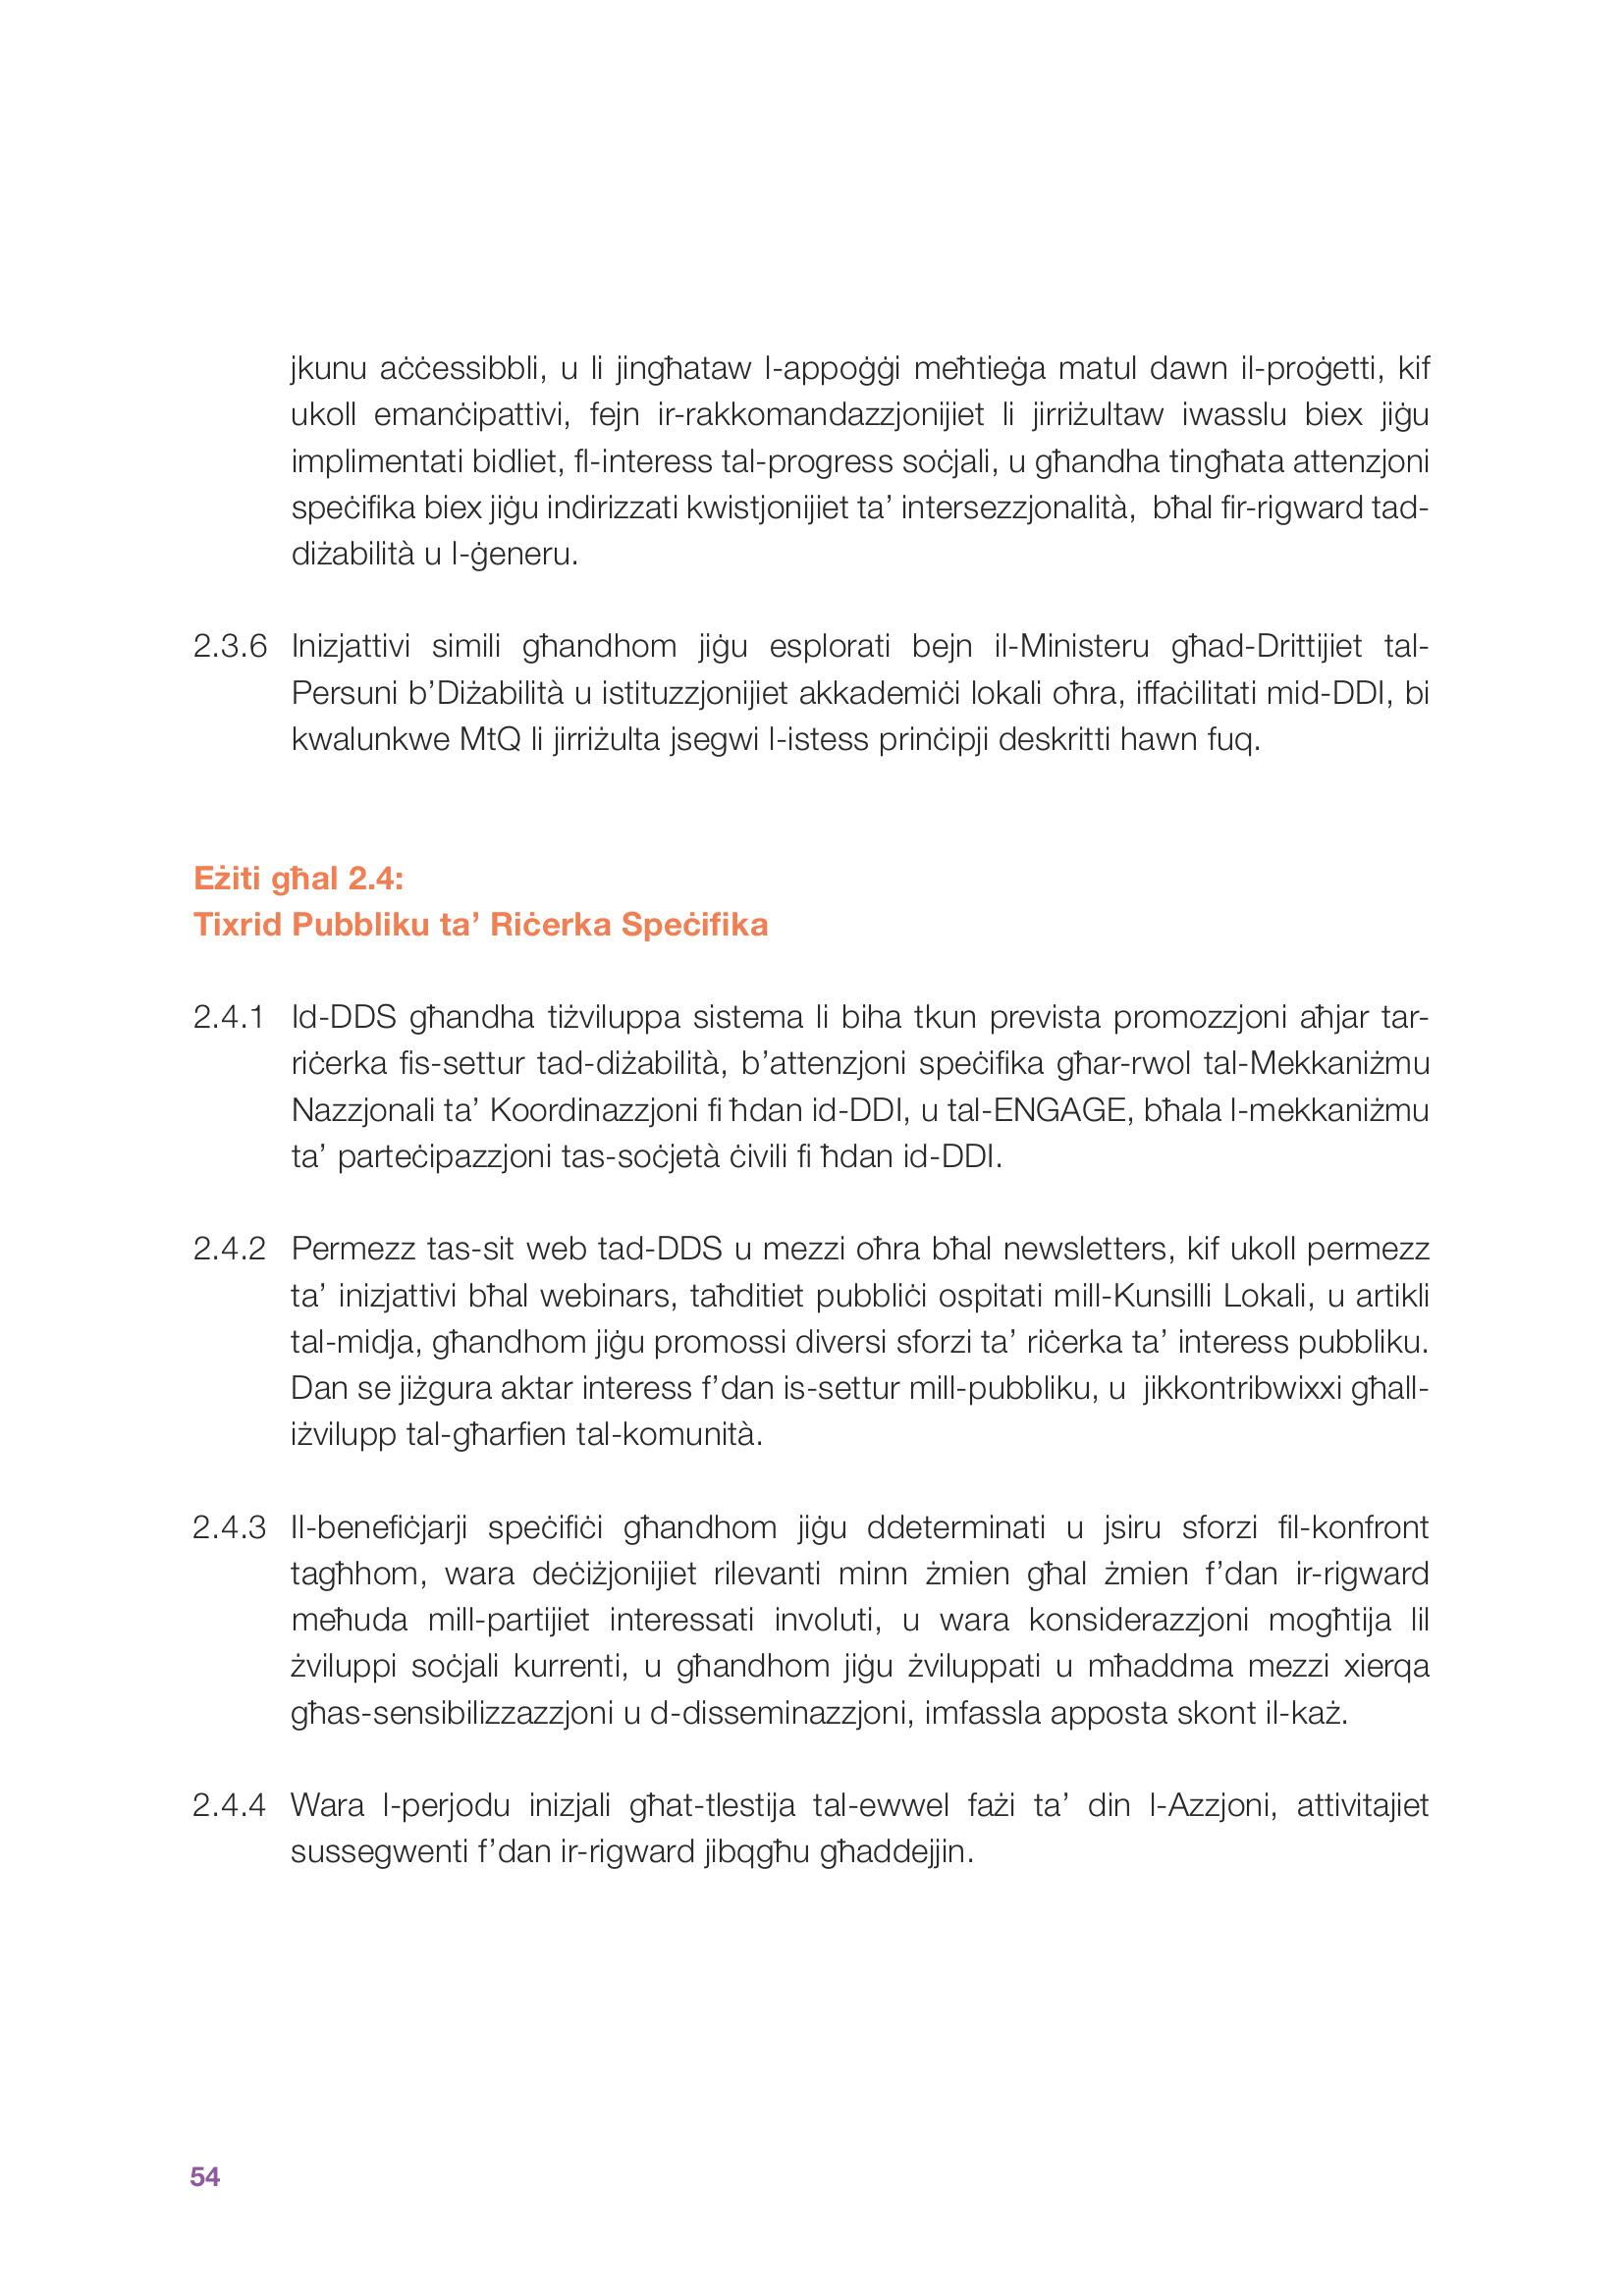text: (153, 336, 1450, 1894)
